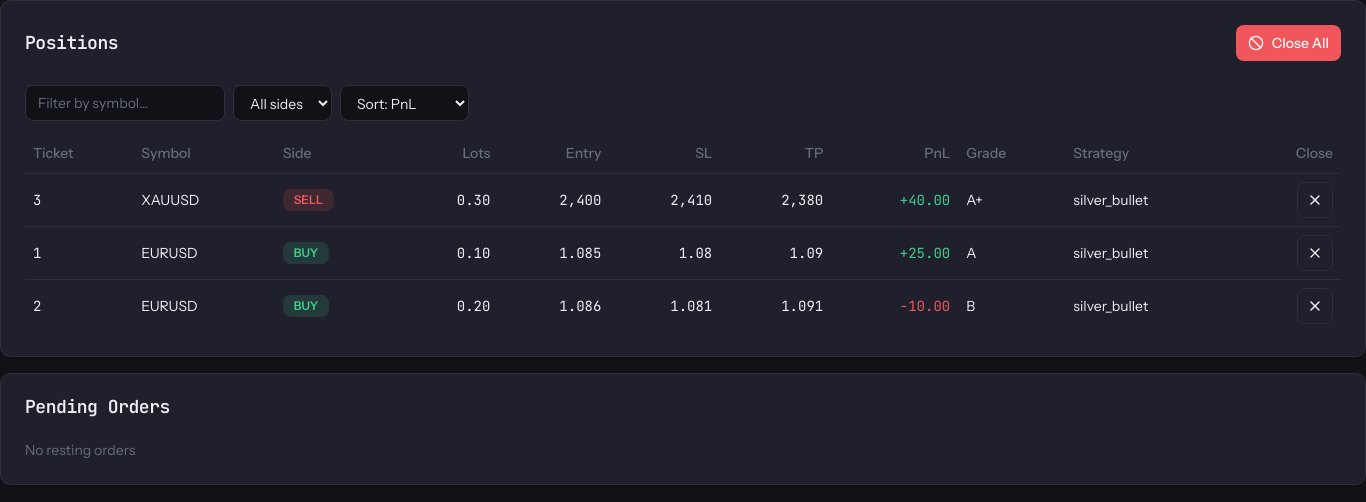
Test: PositionsPage › filtering by symbol 'XAU' shows only the SELL row; clearing shows all 3
In the field labelled "Filter by symbol…": coordinates (125, 103) [25,85,225,121], type "XAU"
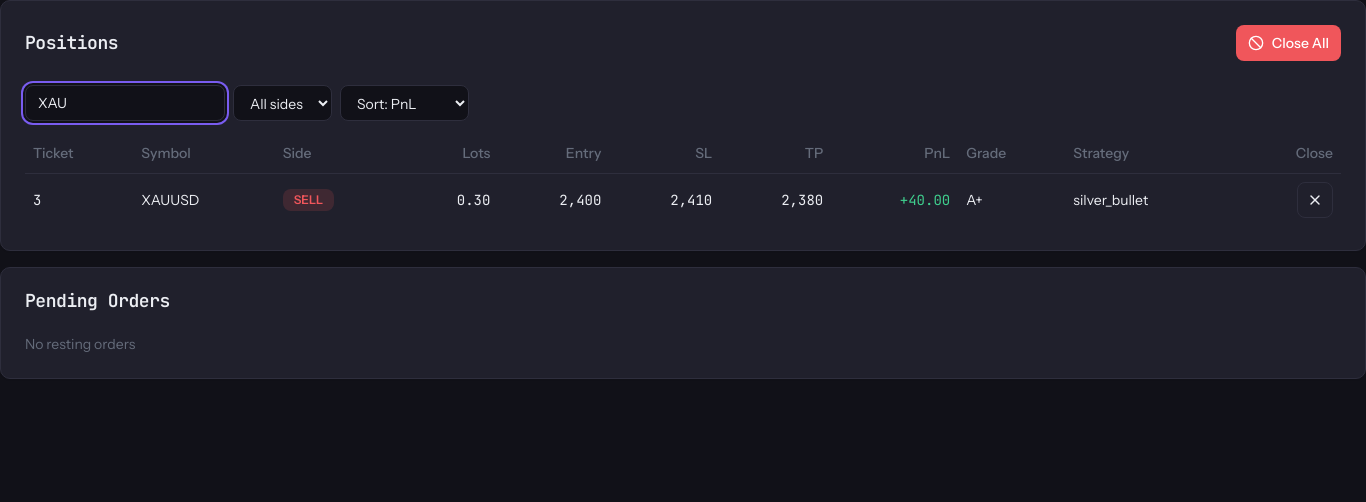
Expected: the text "XAUUSD" is shown, [141,190,199,208]
Now the number of rows is 2, box [25,133,1341,173]; [25,173,1341,226]
Now the text "EURUSD" is gone
Clear the field named "symbol": coordinates (125, 103) [25,85,225,121]
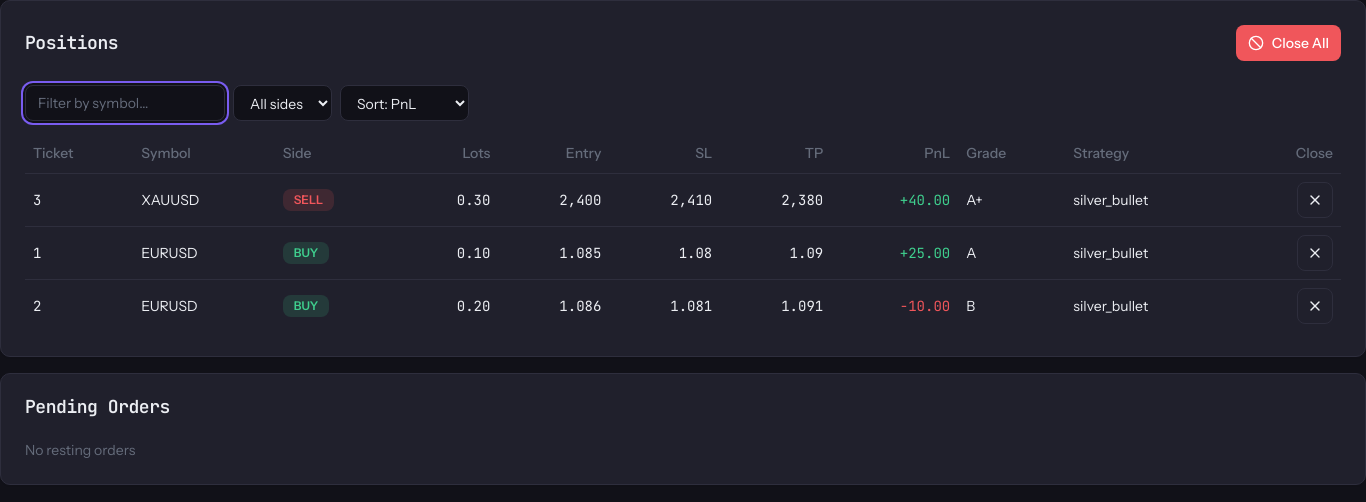
Now the number of rows is 4, box [25,133,1341,173]; [25,173,1341,226]; [25,226,1341,279]; [25,279,1341,332]
